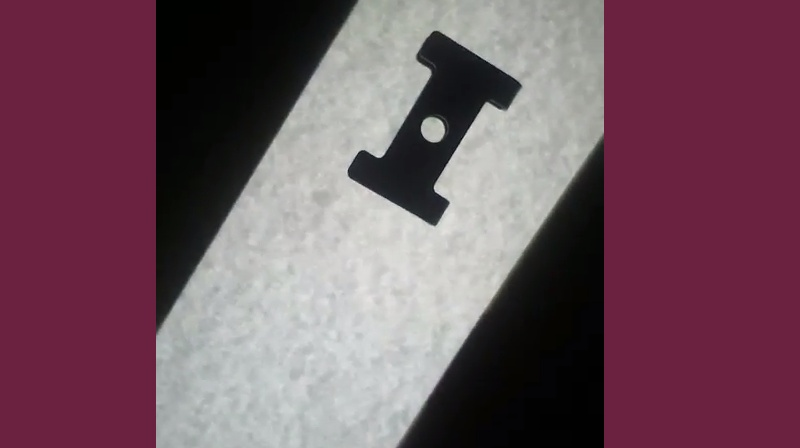O002: (343, 28, 522, 231)
